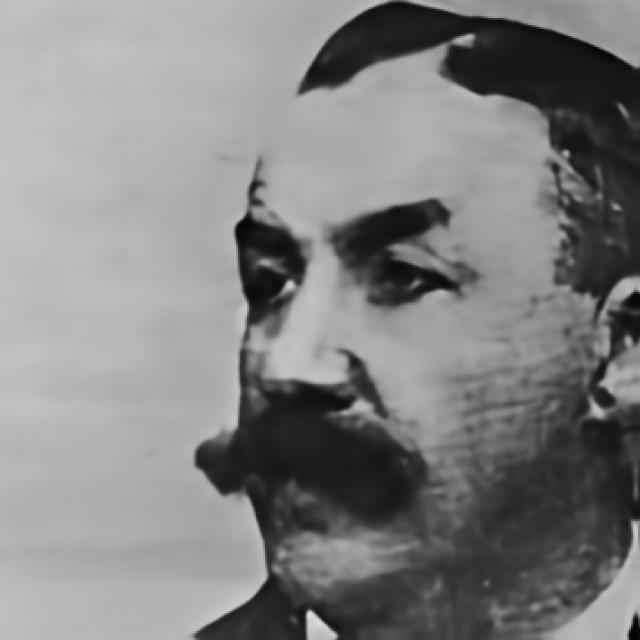anger: (234, 101, 564, 617)
